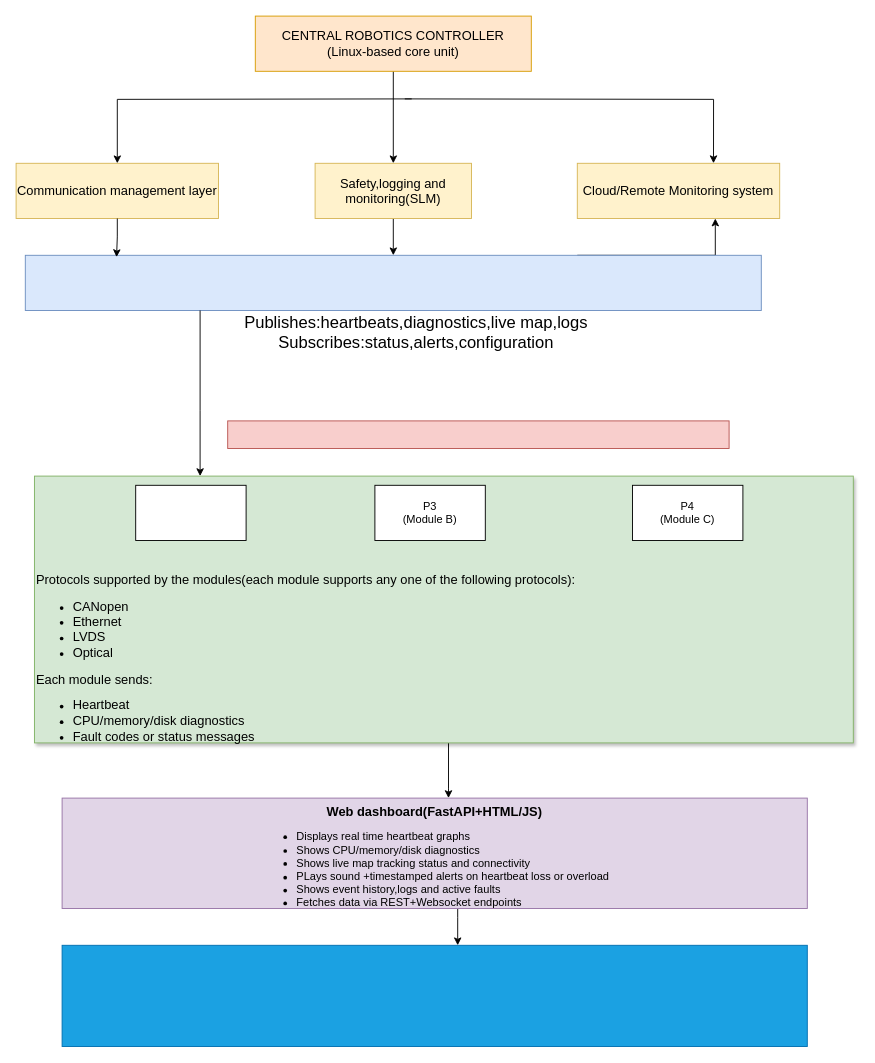
Image size: 875x1063. Some labels were removed from this diagram. Here are the shapes that lost their labels. From the top down, the centre of each, then its label:
point (392, 282): Internal Message Bus/MQTT Broker(publish,subscribe)
point (478, 434): INTERFACE MODULES
point (190, 512): P2 (Module A)
point (434, 995): System Health monitoring panel
